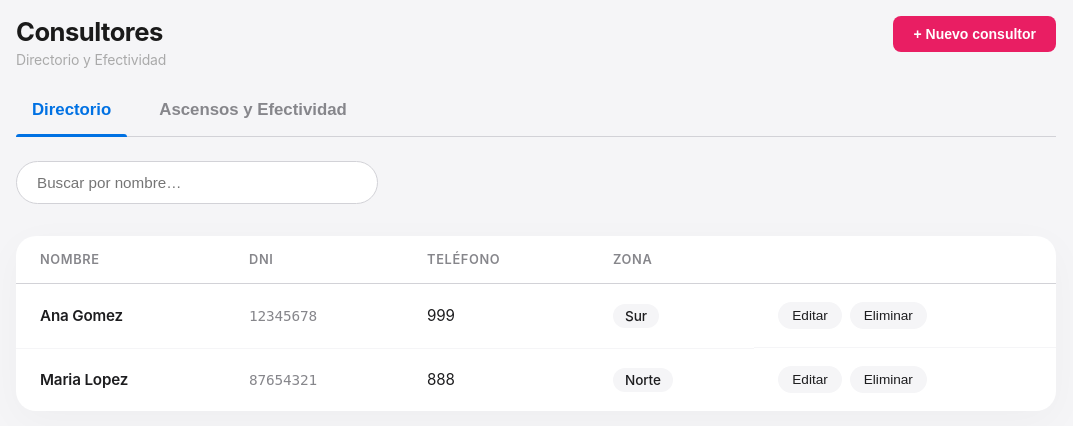
Scenario: ConsultantsView.vue (HU1 y HU3) › permite cambiar a la pestaña de Ascensos y Efectividad (HU3)
This screenshot has width=1073, height=426.
Click the button with class "tab-btn" showing "Ascensos y Efectividad".
click(253, 110)  # box left=143, top=92, right=363, bottom=128
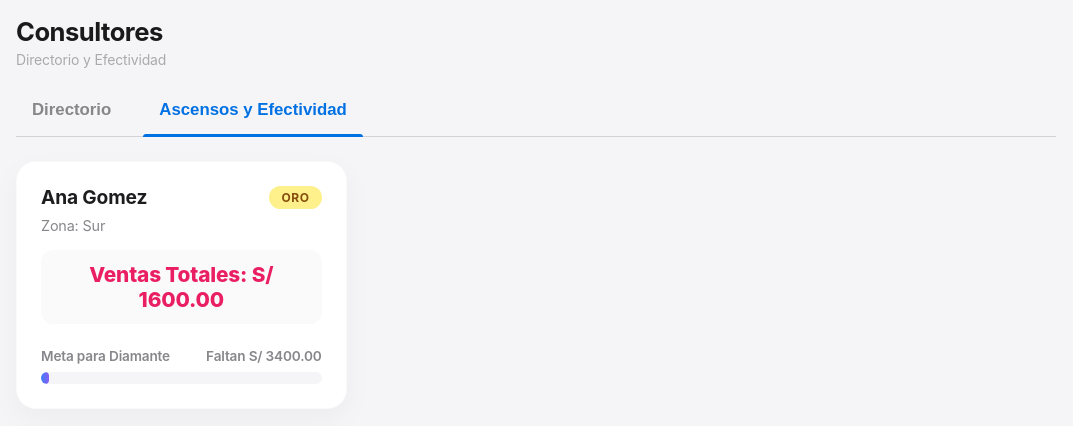
Expected: the text "Ana Gomez" is shown, left=41, top=186, right=147, bottom=209
Expected: the element with class "ranking-grid" is shown, left=16, top=161, right=347, bottom=409
